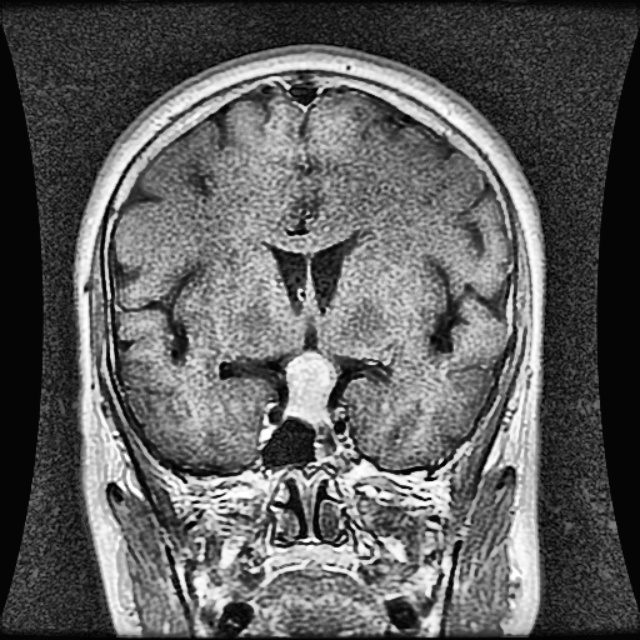Pituitary: (284, 350, 340, 422)
